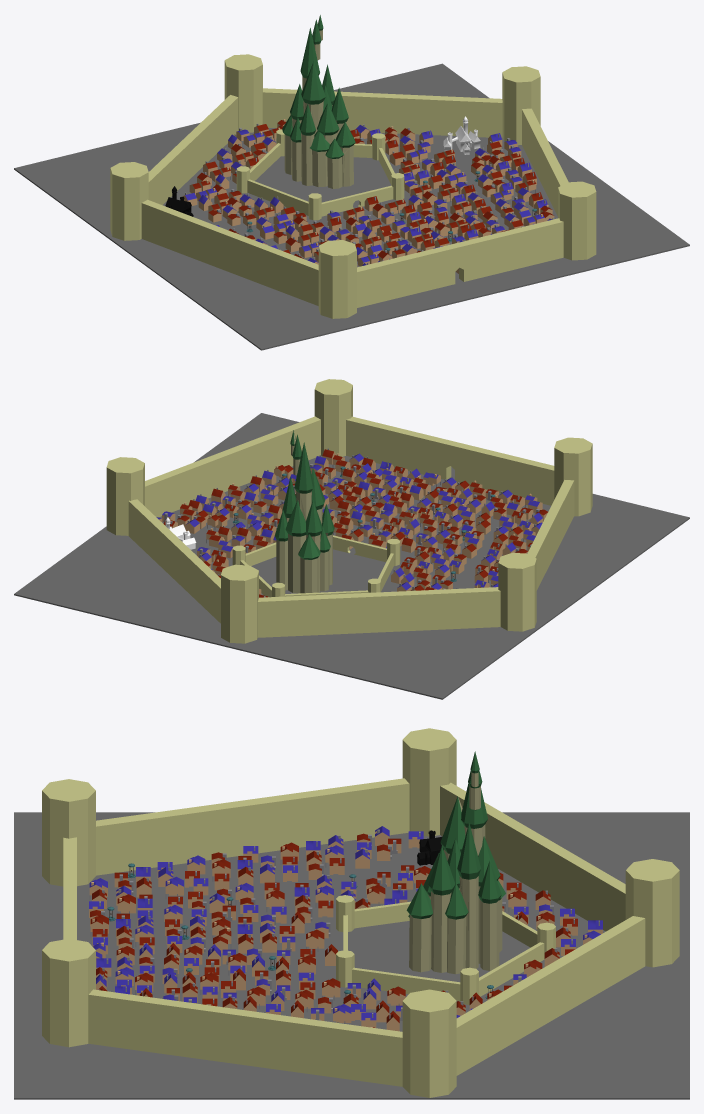
Rendered from cat_002.FBX.
3 renders of one model, top to bottom at view 1: azimuth 30°, elevation 25°; view 2: azimuth 150°, elevation 25°; view 3: azimuth 270°, elevation 25°, orthographic. The views are drawn at different scales.
Visible parts, largest first — view 1: HM_grand, HM_wall1, HM_wall3, Castle, HM_wall5, HM_wall2, HM_towar5, HM_towar4, HM_tower2, HM_tower1, HM_tower3, HM_wall4 (+3 smaller); view 2: HM_grand, HM_wall2, HM_wall1, HM_wall4, Castle, HM_wall5, HM_tower2, HM_tower1, HM_tower3, HM_towar5, HM_towar4, HM_wall3 (+1 smaller); view 3: HM_grand, HM_wall4, HM_wall3, Castle, HM_wall5, HM_wall2, HM_tower3, HM_towar4, HM_towar5, HM_tower1, HM_tower2, Box009 (+8 smaller).
Boxes of the visible parts, x1,y1,x2,y2 form: HM_grand: (14, 63, 689, 350); HM_wall1: (357, 218, 563, 307); HM_wall3: (141, 199, 318, 305); Castle: (282, 15, 355, 188); HM_wall5: (262, 88, 502, 137); HM_wall2: (148, 95, 238, 205); HM_towar5: (318, 240, 356, 318); HM_towar4: (558, 181, 596, 260); HM_tower2: (110, 162, 148, 240); HM_tower1: (224, 54, 262, 132); HM_tower3: (502, 66, 540, 145); HM_wall4: (522, 108, 568, 216); HM_grand: (14, 413, 689, 699); HM_wall2: (257, 587, 500, 637); HM_wall1: (346, 416, 554, 505); HM_wall4: (145, 416, 320, 517); Castle: (274, 430, 334, 593); HM_wall5: (128, 499, 220, 623); HM_tower2: (498, 552, 536, 631); HM_tower1: (221, 564, 258, 643); HM_tower3: (106, 457, 144, 535); HM_towar5: (554, 437, 592, 516); HM_towar4: (314, 379, 352, 456); HM_wall3: (527, 480, 574, 590); HM_grand: (14, 812, 689, 1099); HM_wall4: (88, 989, 402, 1086); HM_wall3: (96, 778, 409, 875); Castle: (406, 751, 505, 974); HM_wall5: (456, 916, 645, 1075); HM_wall2: (440, 782, 625, 931); HM_tower3: (402, 989, 456, 1097); HM_towar4: (42, 938, 95, 1047); HM_towar5: (42, 779, 95, 886); HM_tower1: (625, 859, 679, 967); HM_tower2: (402, 728, 456, 836); Box009: (352, 967, 460, 1001).
Bounding box in the file's own units: 3983 × 1394 × 3976.
